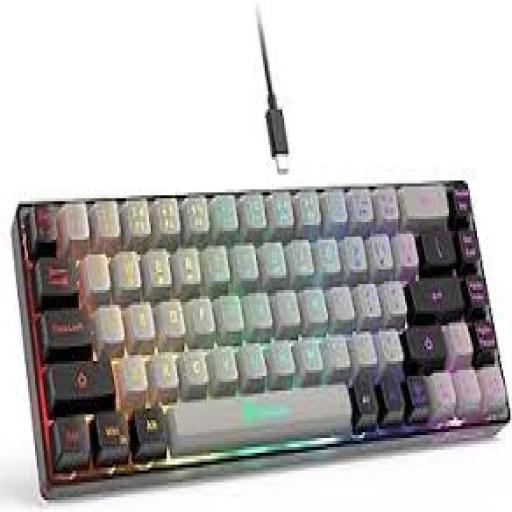KEYBOARD-2: (12, 181, 510, 494)
